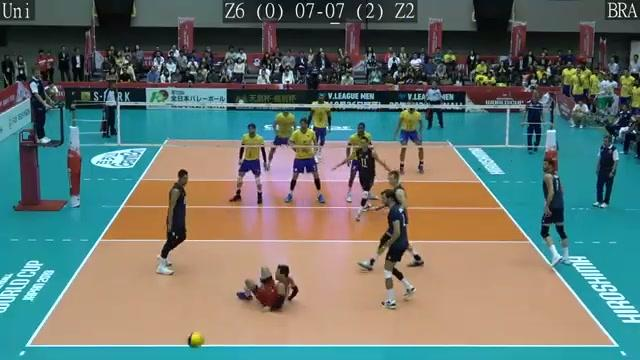ball: (183, 327, 203, 347)
